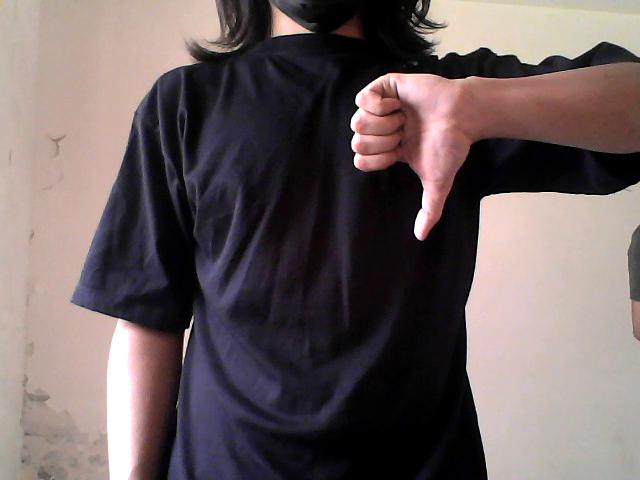thumbs-down: (317, 63, 503, 246)
